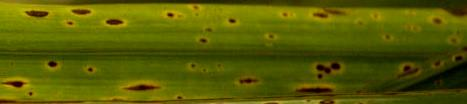0 BrownSpot: (303, 56, 348, 81), (1, 72, 37, 98), (121, 80, 168, 97), (21, 1, 52, 21), (401, 57, 420, 89), (295, 83, 337, 96), (428, 13, 451, 36), (232, 73, 272, 85), (100, 15, 128, 32), (276, 6, 296, 29), (432, 53, 458, 69), (187, 56, 205, 77), (307, 2, 325, 20), (261, 30, 282, 45), (186, 1, 204, 18), (84, 59, 96, 82), (47, 54, 63, 71), (196, 32, 211, 48), (383, 31, 395, 50), (352, 16, 368, 30), (71, 8, 95, 17), (227, 14, 239, 28), (166, 9, 177, 22)
